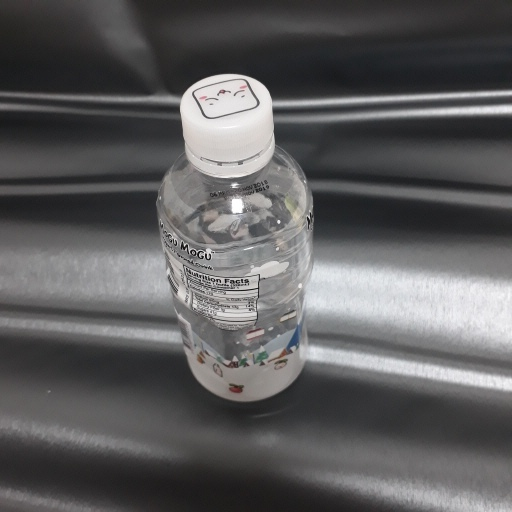Plastic_0: (150, 70, 316, 407)
